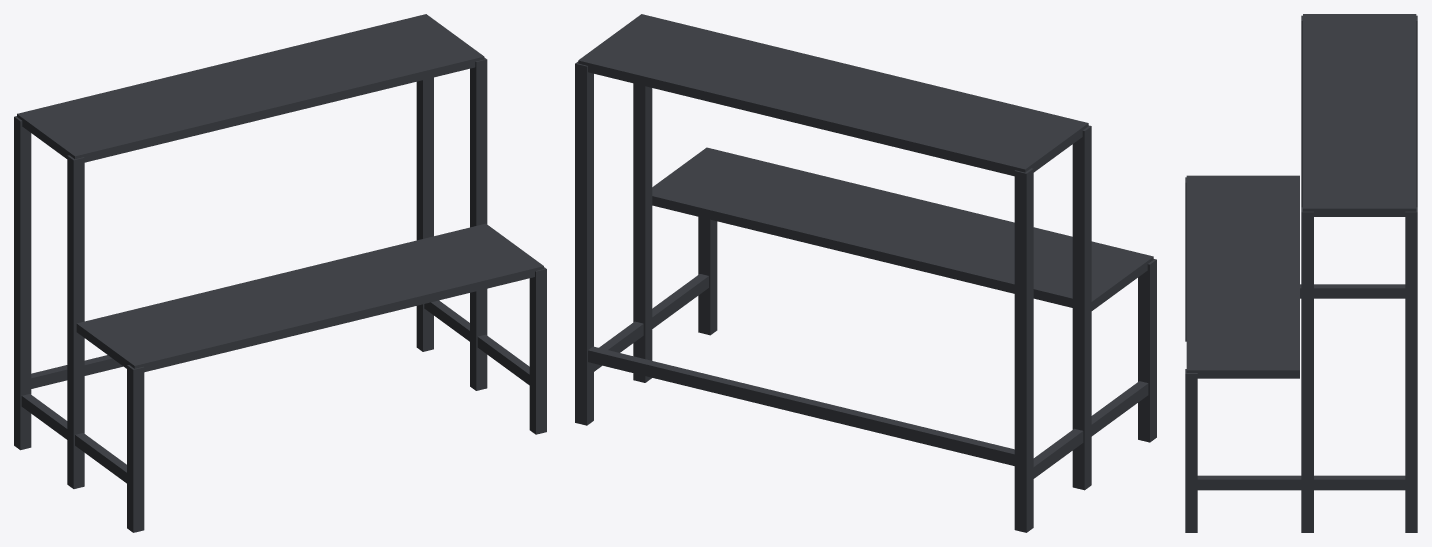
File: SM_Street_PotShelf_Tier2_Black_60_01.gltf
3 renders of one model, left to right at view 1: azimuth 30°, elevation 25°; view 2: azimuth 150°, elevation 25°; view 3: azimuth 270°, elevation 25°, orthographic. The views are drawn at different scales.
Visible parts, largest first — view 1: SM_Street_PotShelf_Tier2_Black_60_01; view 2: SM_Street_PotShelf_Tier2_Black_60_01; view 3: SM_Street_PotShelf_Tier2_Black_60_01.
Boxes of the visible parts, box(x1,y1,x2,y2) form: SM_Street_PotShelf_Tier2_Black_60_01: box(14, 14, 546, 532); SM_Street_PotShelf_Tier2_Black_60_01: box(575, 14, 1156, 532); SM_Street_PotShelf_Tier2_Black_60_01: box(1185, 14, 1417, 532).
Bounding box in the file's own units: 0.6 × 0.46 × 0.3.
1 material, 1 textured.
